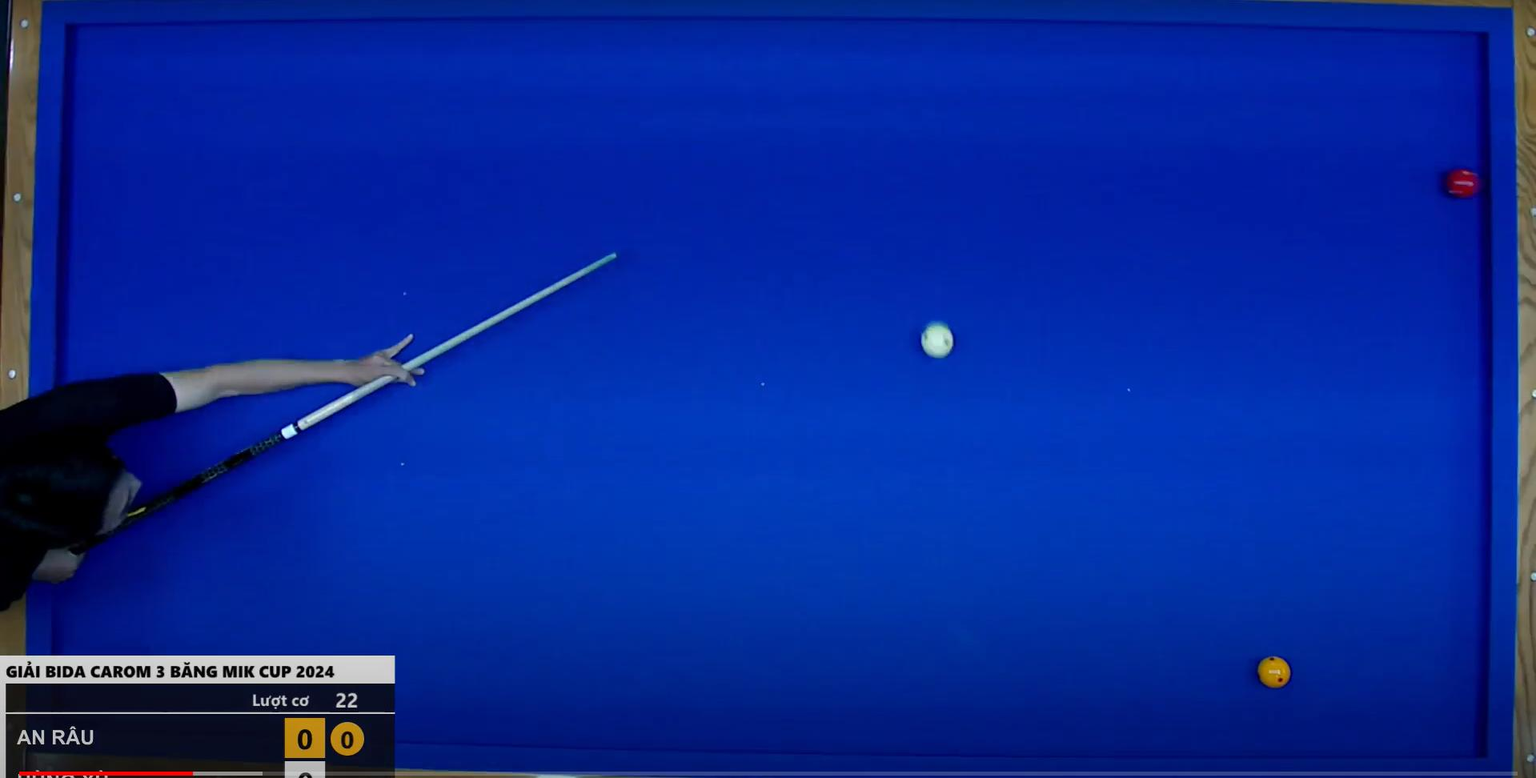red ball: (1438, 161, 1482, 211)
white ball: (917, 316, 958, 366)
yellow ball: (1252, 648, 1299, 695)
